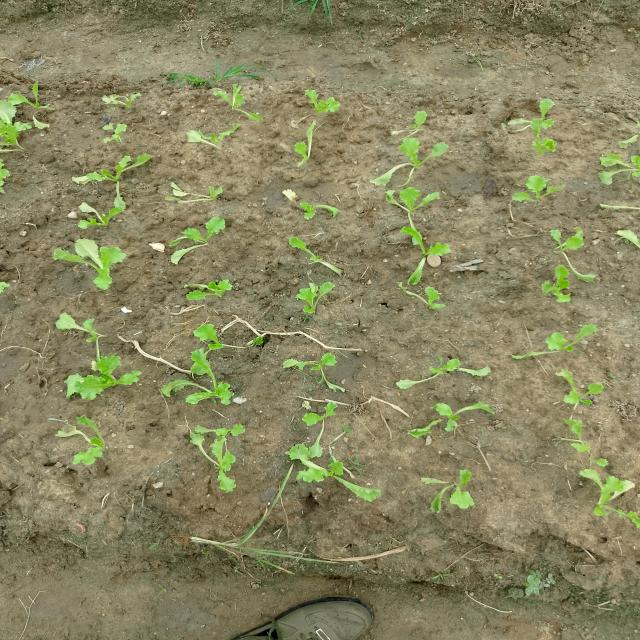Lettuce: (66, 140, 172, 198), (281, 446, 388, 502), (527, 218, 615, 281), (0, 82, 52, 186), (55, 229, 134, 294), (499, 99, 583, 156), (62, 351, 144, 405), (277, 348, 366, 393), (396, 350, 493, 391), (516, 318, 606, 362), (162, 347, 235, 401), (50, 188, 142, 230), (286, 232, 366, 280), (402, 396, 494, 437), (169, 211, 235, 268), (418, 464, 486, 518), (373, 136, 462, 177), (580, 462, 638, 524), (185, 430, 249, 484), (41, 310, 123, 350), (292, 400, 360, 445), (284, 116, 335, 174), (547, 370, 615, 413), (400, 226, 450, 284), (369, 187, 449, 223), (174, 319, 250, 355), (590, 144, 640, 198), (285, 196, 357, 232), (208, 86, 280, 120), (172, 272, 240, 308), (73, 112, 148, 144), (55, 422, 115, 461), (184, 120, 247, 157), (292, 276, 341, 321), (536, 266, 589, 307), (517, 168, 573, 206), (553, 412, 596, 455), (164, 177, 228, 204), (393, 280, 448, 309), (392, 108, 438, 140), (196, 417, 252, 440), (303, 88, 354, 113), (578, 94, 584, 100)
